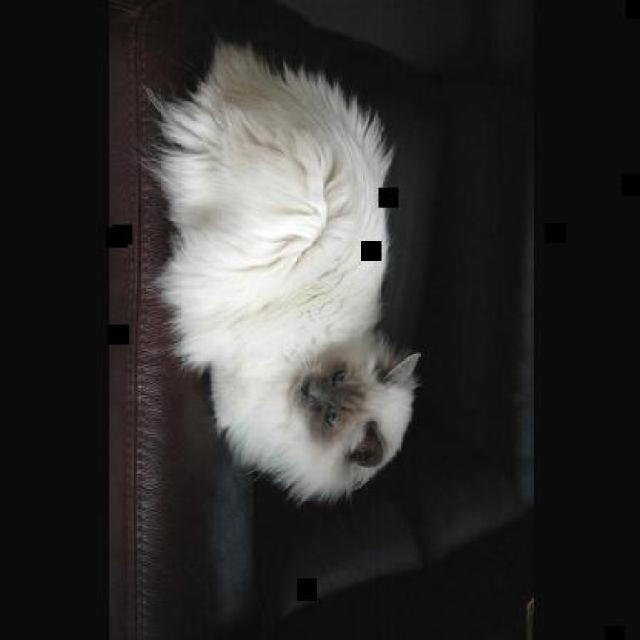unauthorized: (130, 37, 422, 506)
